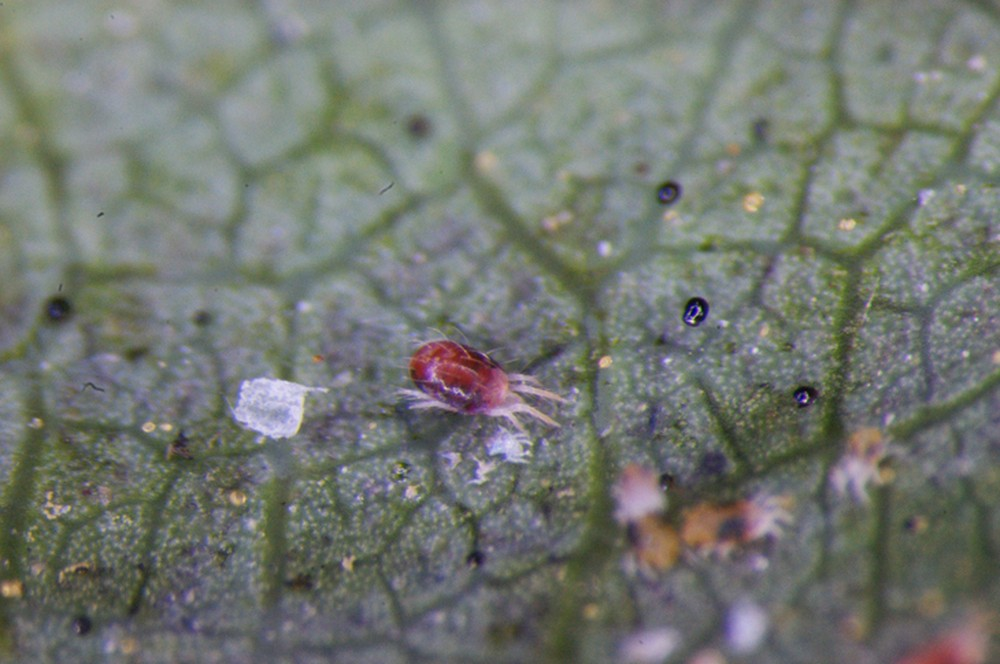Aracnido Rojo: (372, 320, 581, 444)
